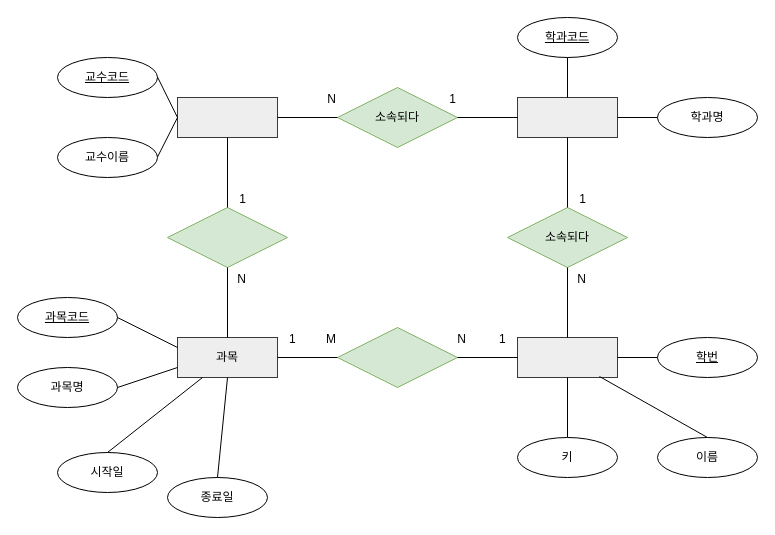
The diagram is 775 pixels wide and 535 high, and some of its shapes have lost their labels. Here are the shapes that lost their labels. From the top down, the centre of each, then its label:
the point at 227,117: 교수
the point at 567,117: 학과
the point at 227,237: 강의하다
the point at 397,357: 수강하다
the point at 567,357: 학생
